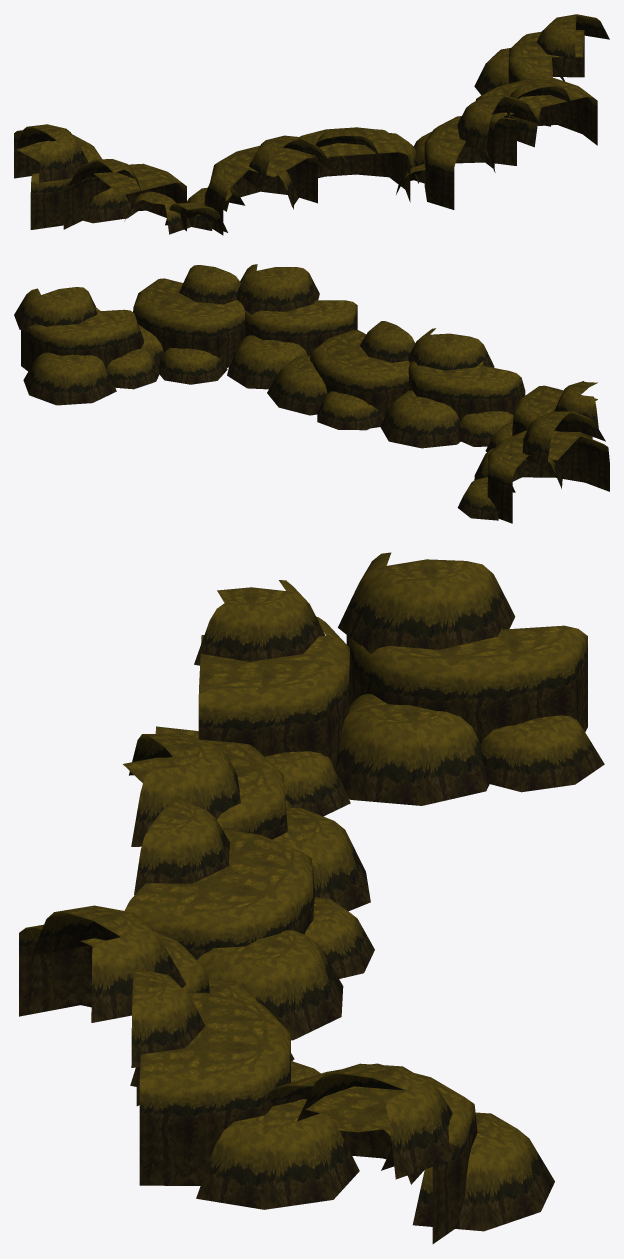
Rendered from mesh_raid3_wall.FBX.
3 renders of one model, top to bottom at view 1: azimuth 30°, elevation 25°; view 2: azimuth 150°, elevation 25°; view 3: azimuth 270°, elevation 25°, orthographic. The views are drawn at different scales.
Visible parts, largest first — view 1: mesh_raid3_wall; view 2: mesh_raid3_wall; view 3: mesh_raid3_wall.
Part boxes in pixels (x1,y1,x2,y2): mesh_raid3_wall: [14, 14, 609, 235]; mesh_raid3_wall: [14, 264, 609, 523]; mesh_raid3_wall: [19, 552, 604, 1243].
Bounding box in the file's own units: 97.85 × 13.61 × 42.27.
